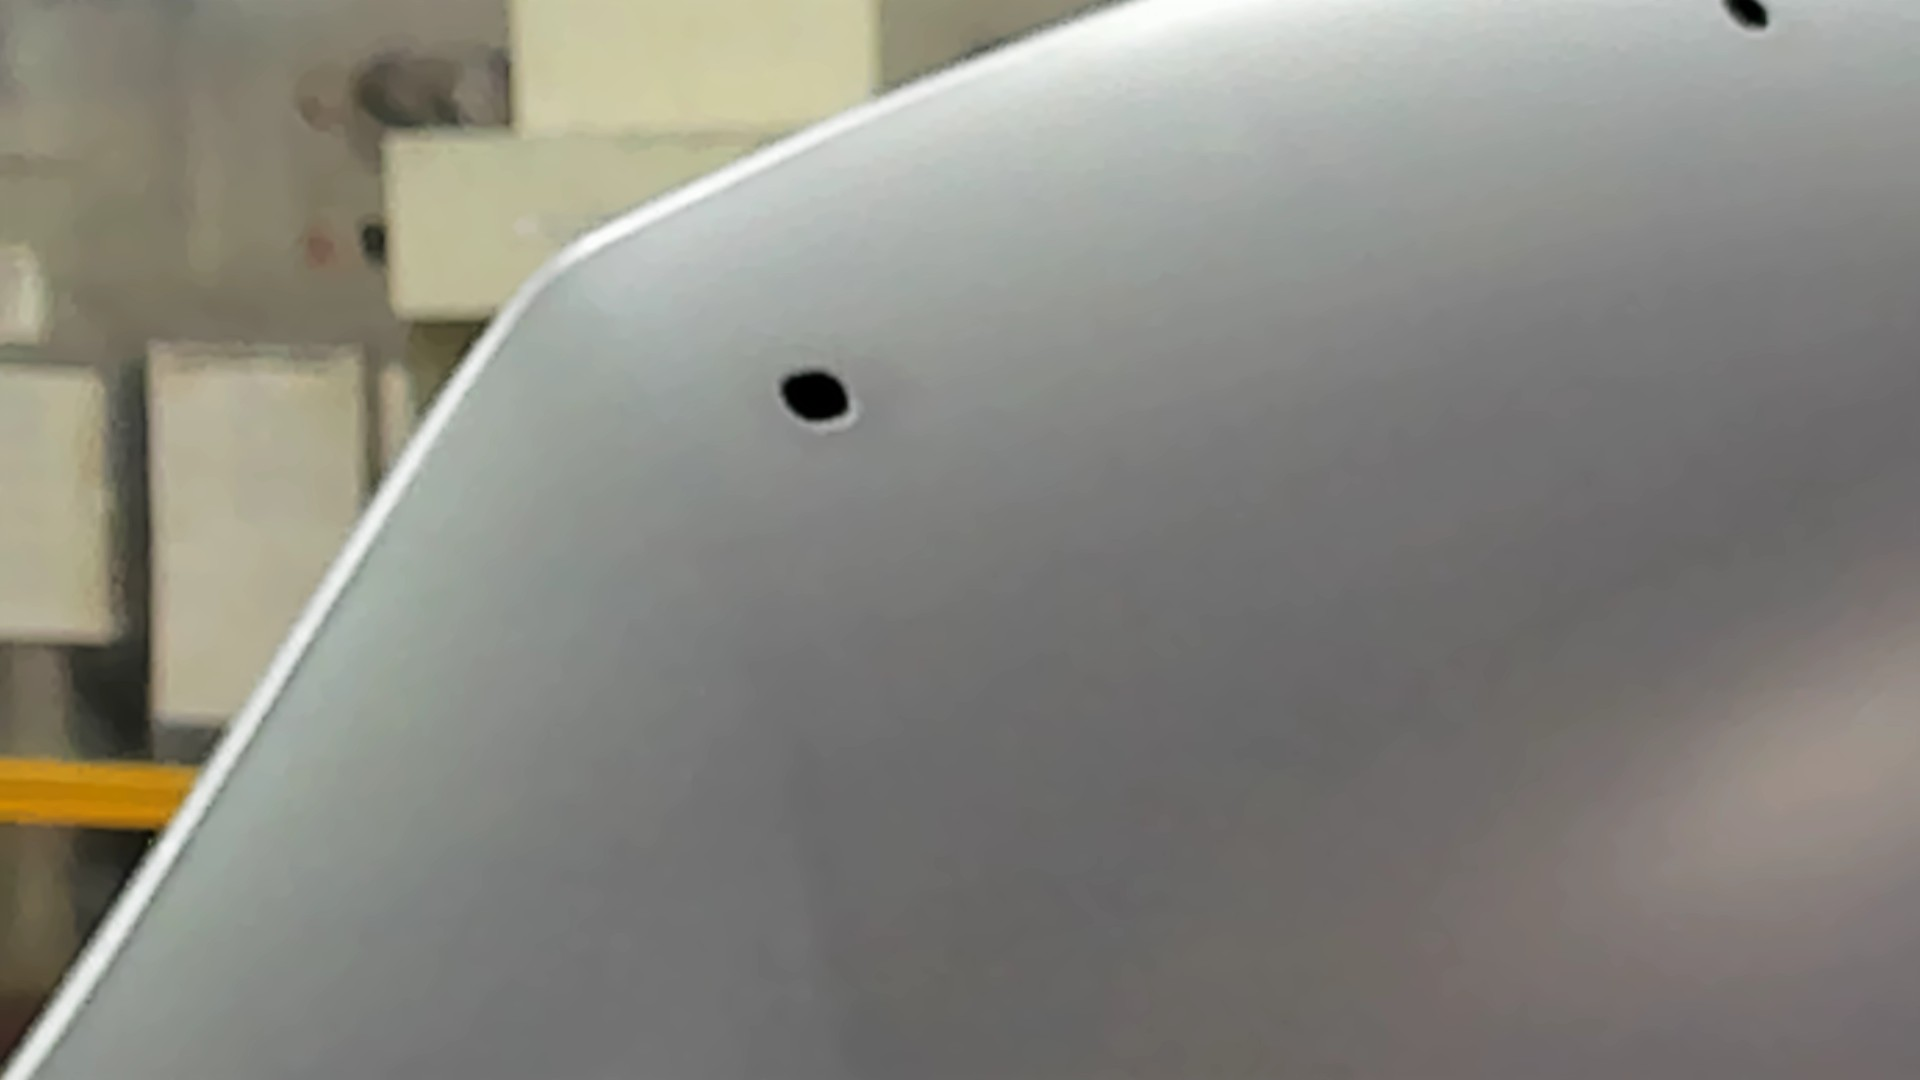amorfo: (770, 364, 862, 433), (1718, 1, 1778, 42)
capo: (952, 107, 1920, 1080)
